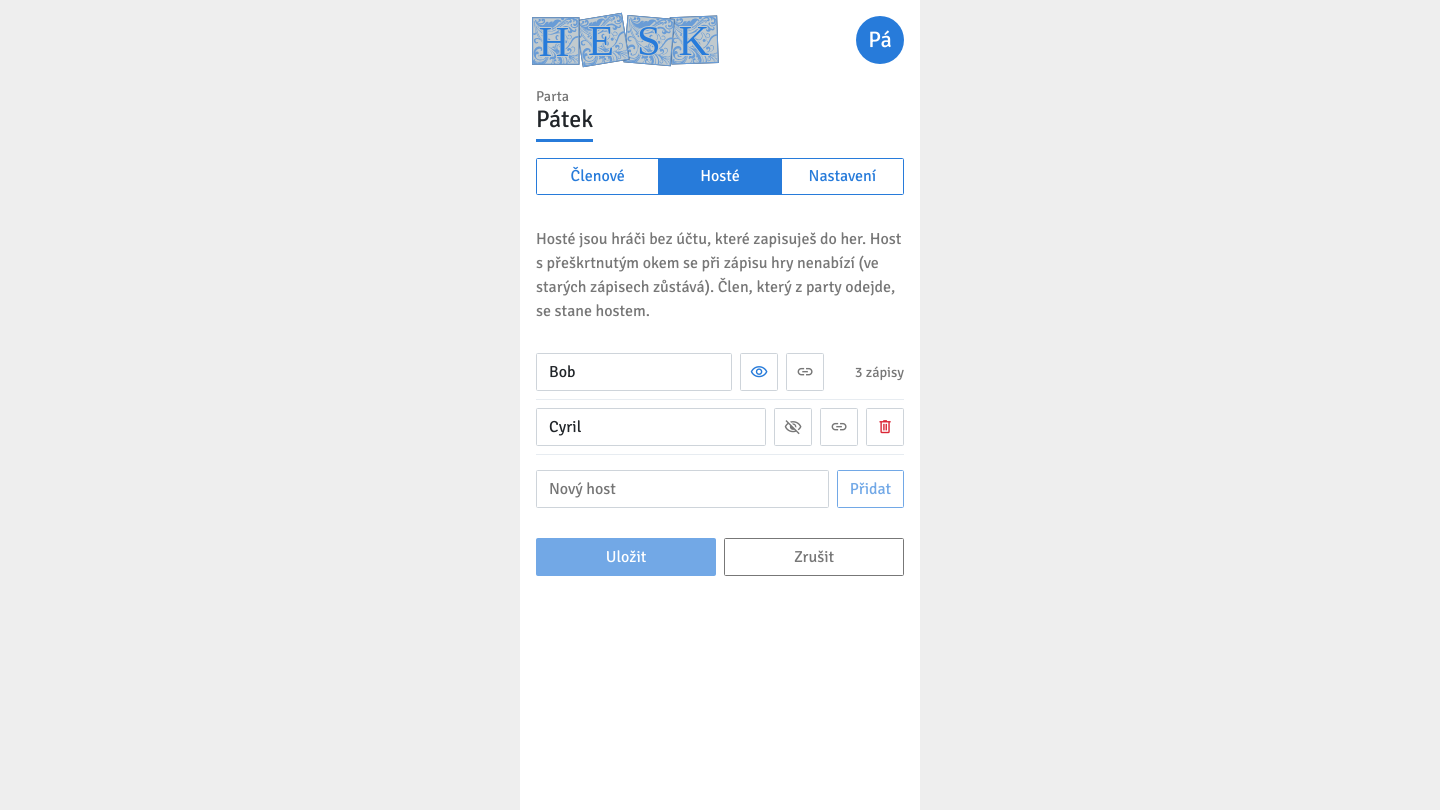
Scenario: party guests (/parties/:id/guests) › turning a guest into a member › shows the server error (e.g. a shared play) as a toast and keeps the popup
Click the button named "Propojit hosta Bob s členem" at [805, 372], box x1=786 y1=354 x2=824 y2=392
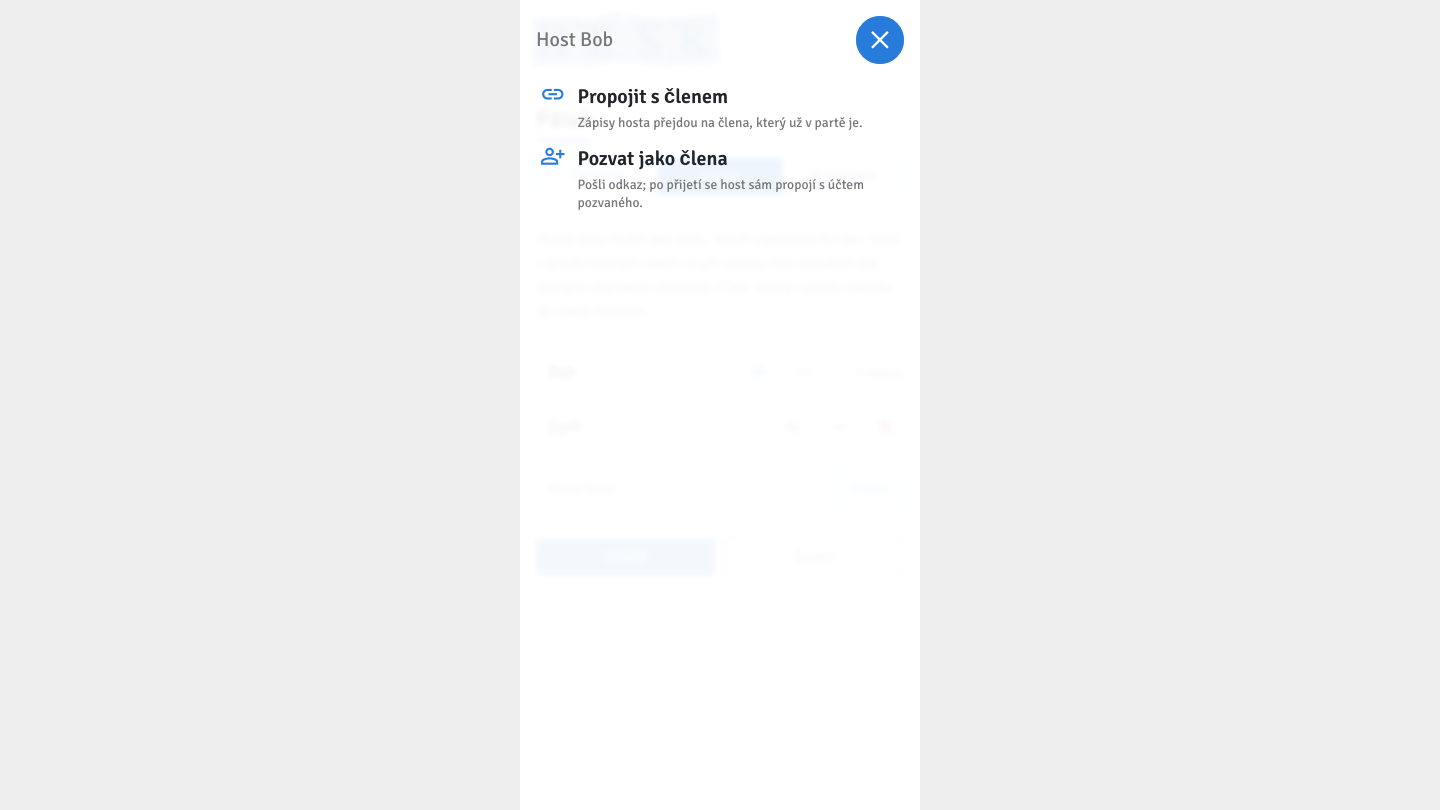
Click the button "Propojit s členem" at [720, 107], box x1=536 y1=76 x2=904 y2=138
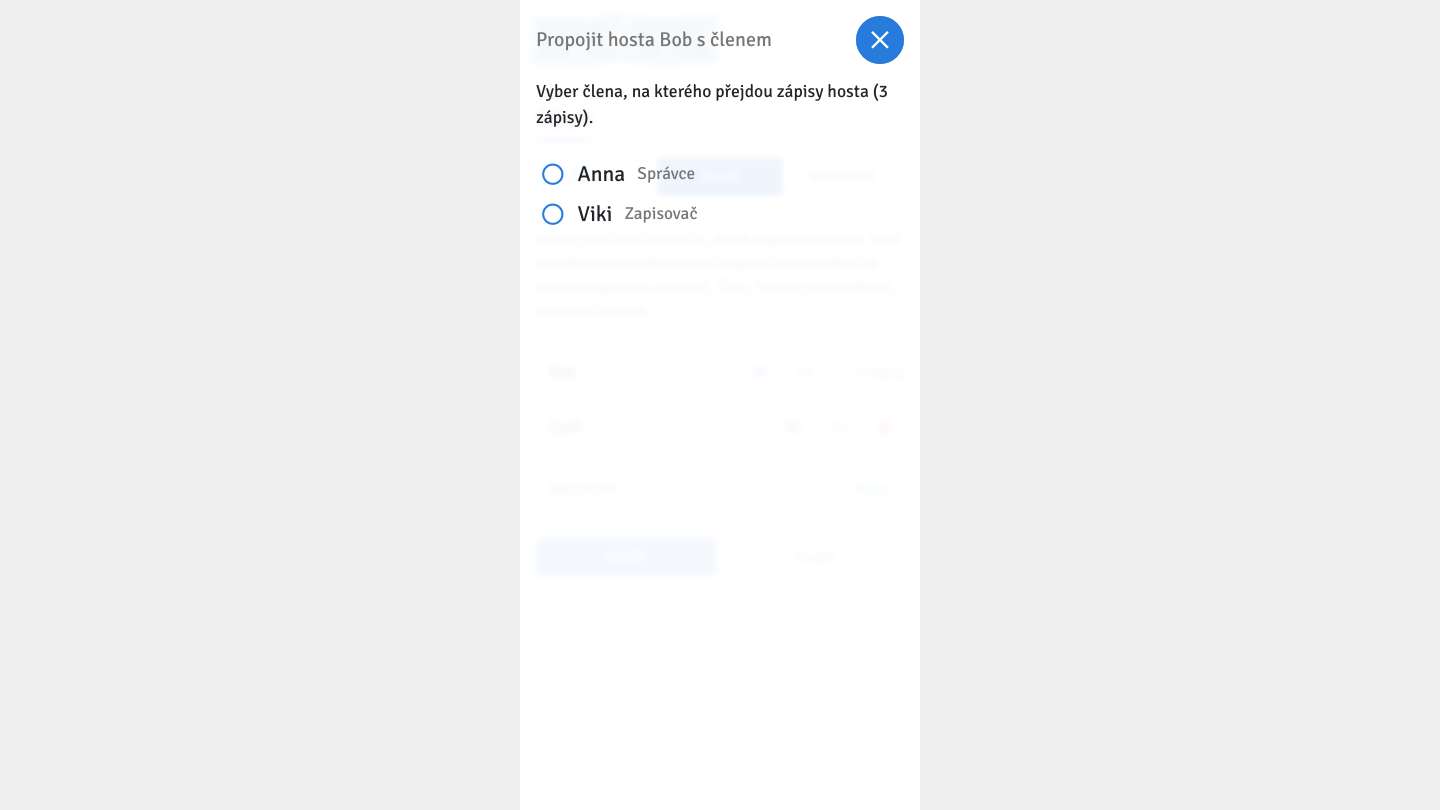
Click the option "Viki Zapisovač" at [595, 214], box x1=536 y1=194 x2=904 y2=234
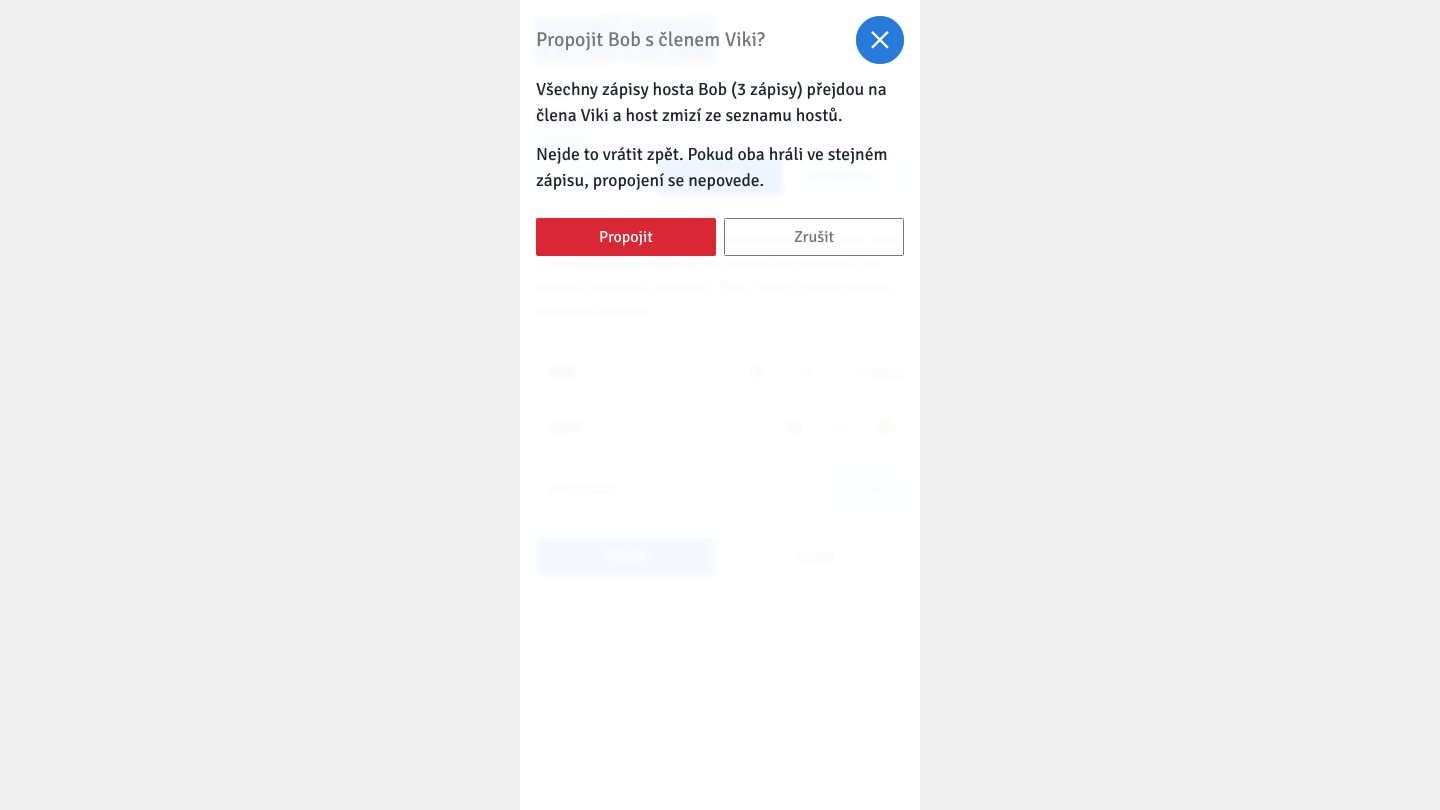
Click the button "Propojit" at [626, 237], box x1=536 y1=218 x2=716 y2=256
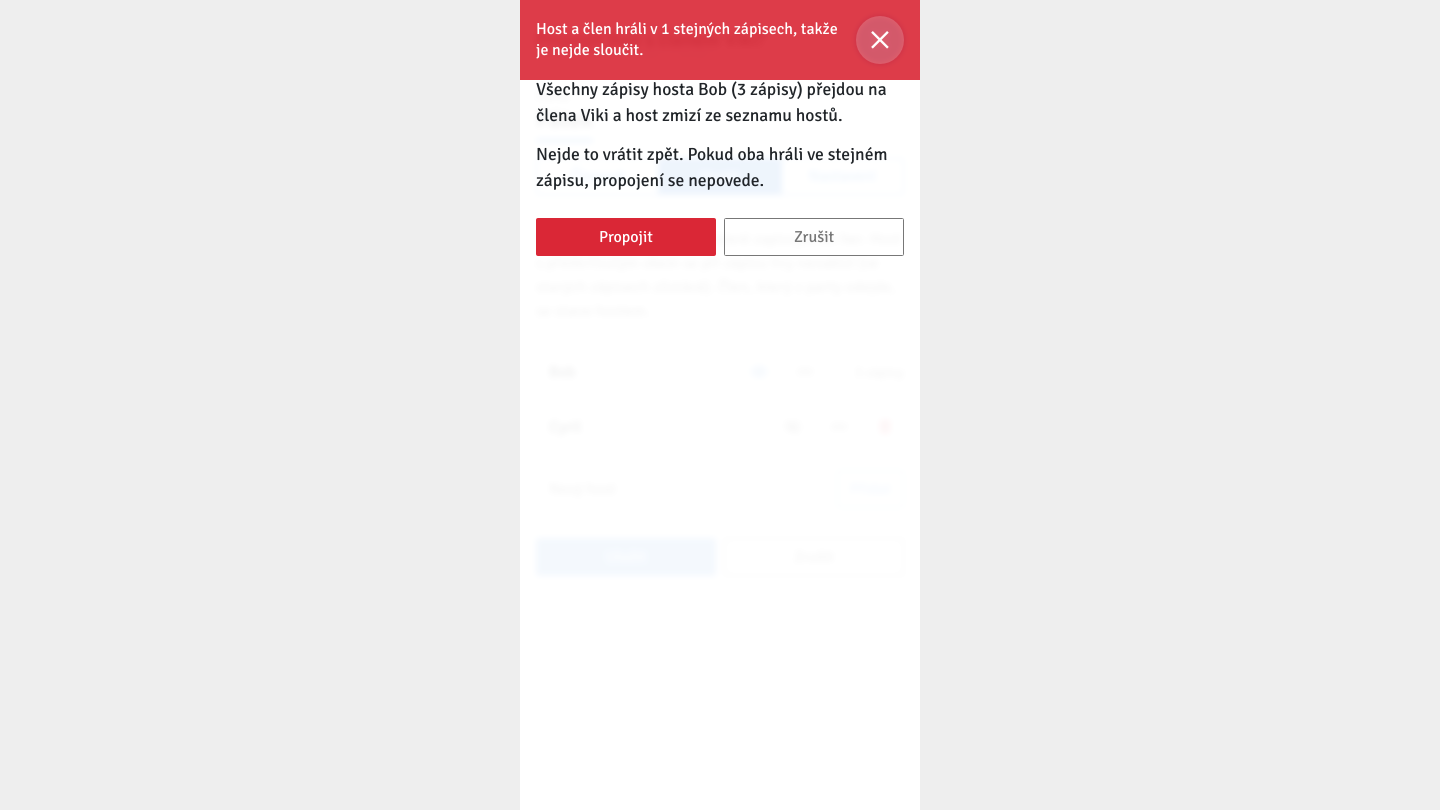
Now the dialog is shown, box x1=520 y1=0 x2=920 y2=809
Now the message shows "stejných zápisech", box x1=536 y1=19 x2=838 y2=60
